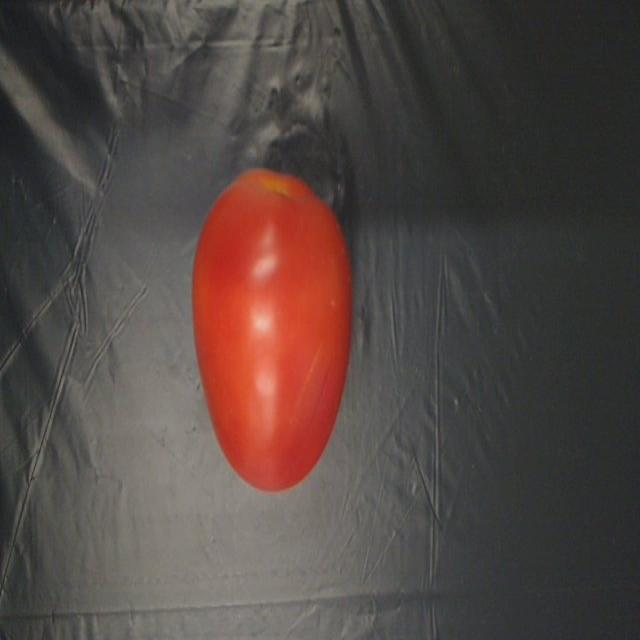kirmizi: (183, 168, 366, 504)
